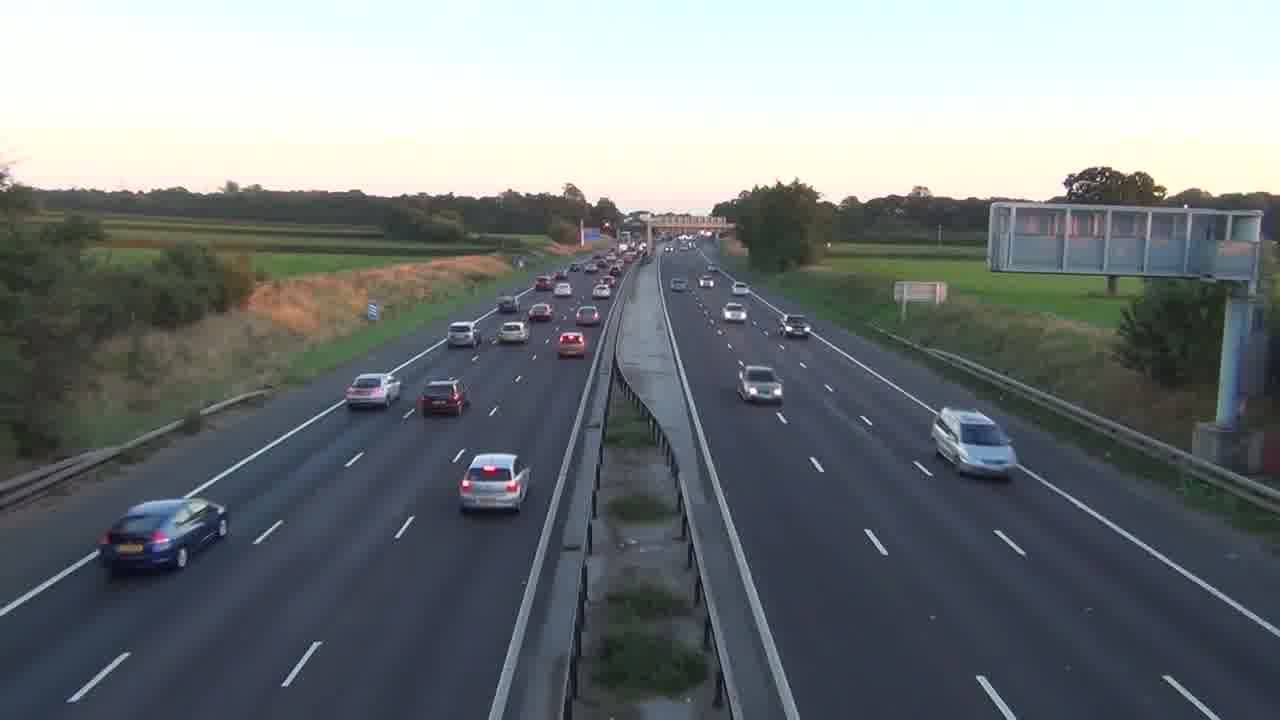car: (97, 494, 229, 575), (930, 406, 1017, 480), (458, 452, 532, 514), (415, 377, 469, 417), (344, 372, 398, 410), (736, 363, 784, 405), (555, 329, 586, 359), (496, 319, 530, 344), (574, 305, 603, 326)
